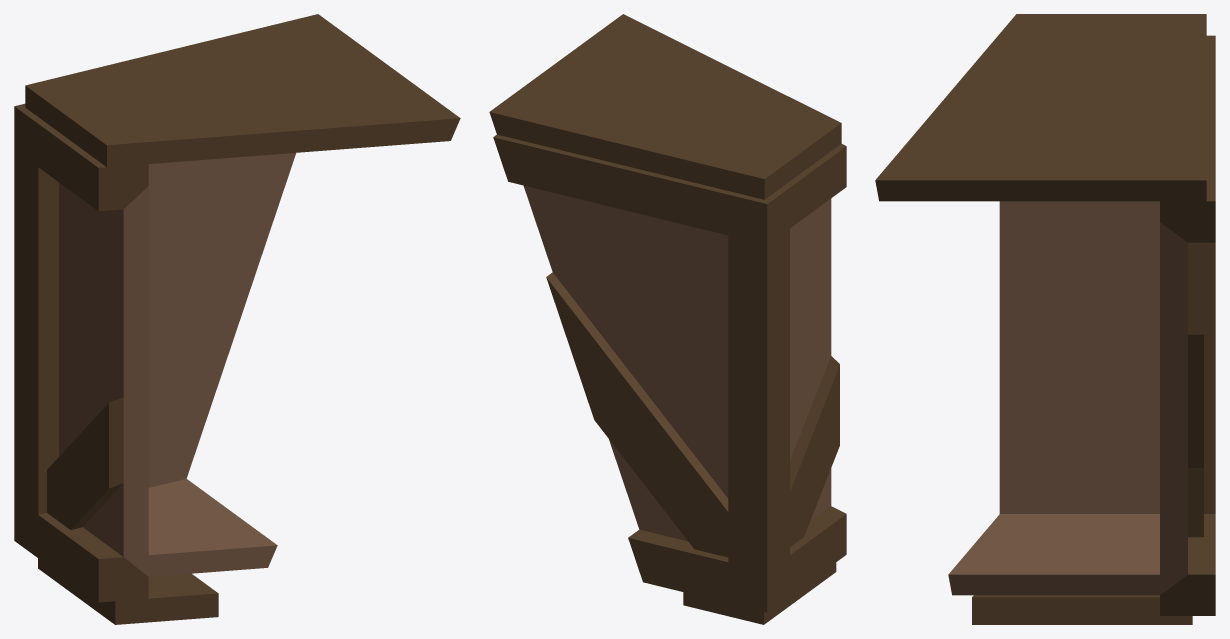
Rendered from crate_chunk2.fbx.
The picture shows the model from 3 angles, left to right: view 1: azimuth 30°, elevation 25°; view 2: azimuth 150°, elevation 25°; view 3: azimuth 270°, elevation 25°; orthographic projection. The views are drawn at different scales.
Visible parts, largest first — view 1: crate_chunk2; view 2: crate_chunk2; view 3: crate_chunk2.
Part boxes in pixels (<box>): crate_chunk2: <box>14,14,460,624</box>; crate_chunk2: <box>489,14,846,624</box>; crate_chunk2: <box>875,14,1215,624</box>.
Size of the model in its own units: 144 by 221 by 122.
